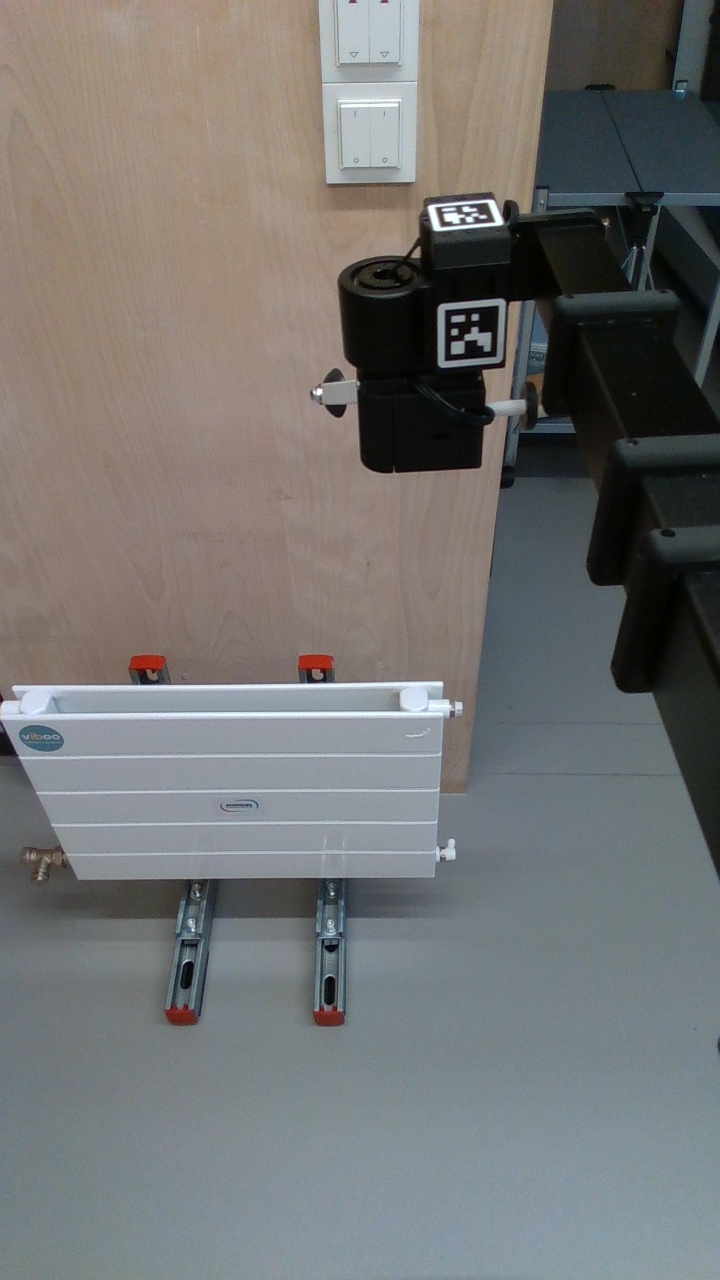Light_Switch: (323, 80, 416, 181), (318, 1, 418, 78)
Radiator: (36, 678, 458, 887)
